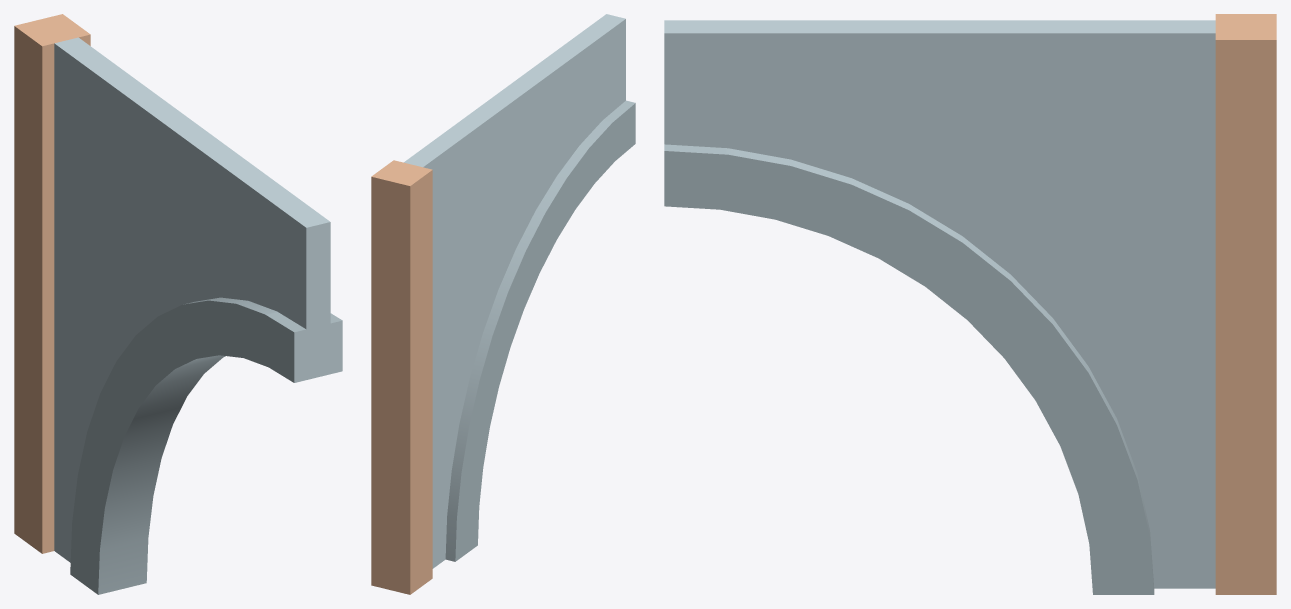
File: wallArchTop.glb
3 renders of one model, left to right at view 1: azimuth 30°, elevation 25°; view 2: azimuth 150°, elevation 25°; view 3: azimuth 270°, elevation 25°, orthographic. The views are drawn at different scales.
Visible parts, largest first — view 1: wallArchTop; view 2: wallArchTop; view 3: wallArchTop.
Boxes of the visible parts, x1=… form: wallArchTop: x1=14, y1=14, x2=342, y2=594; wallArchTop: x1=371, y1=14, x2=635, y2=594; wallArchTop: x1=664, y1=14, x2=1276, y2=594.
Size of the model in its own units: 0.1 by 1 by 1.
